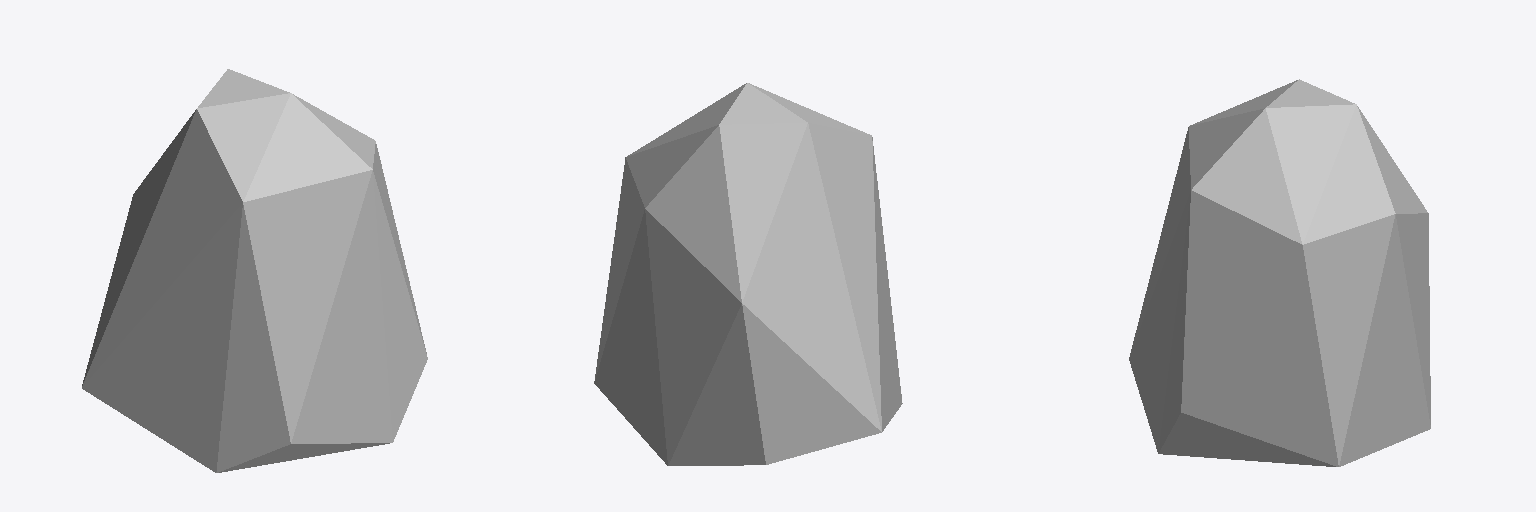
File: rock_l.obj
The picture shows the model from 3 angles: view 1: azimuth 30°, elevation 25°; view 2: azimuth 150°, elevation 25°; view 3: azimuth 270°, elevation 25°; orthographic projection.
Parts seen in each view (by area): view 1: Rock4_Cylinder.019; view 2: Rock4_Cylinder.019; view 3: Rock4_Cylinder.019.
Part boxes in pixels (bbox=[...]): Rock4_Cylinder.019: bbox=[82, 69, 427, 472]; Rock4_Cylinder.019: bbox=[594, 83, 902, 465]; Rock4_Cylinder.019: bbox=[1129, 79, 1430, 466].
Size of the model in its own units: 3.73 by 3.98 by 3.38.